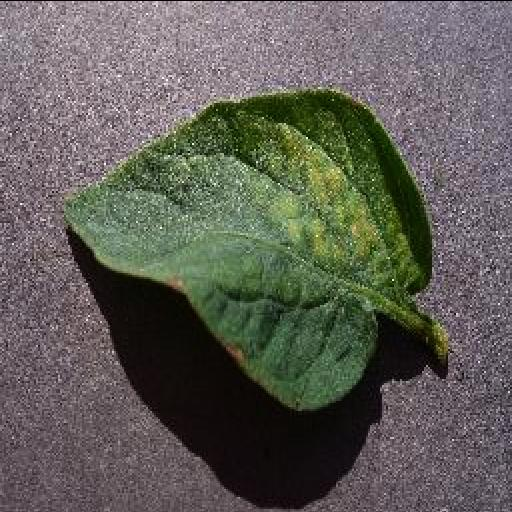disease_tomato: (56, 92, 430, 410)
